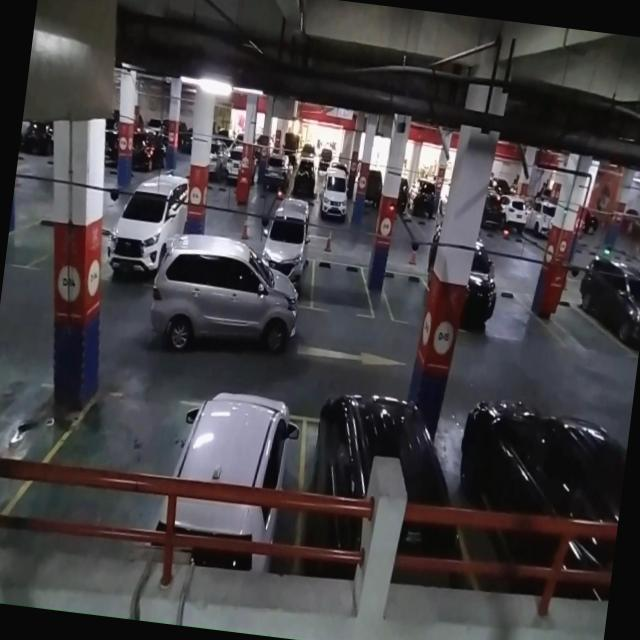car: (286, 414, 474, 597), (169, 398, 312, 576), (99, 187, 188, 292), (248, 218, 320, 310)
free: (37, 382, 194, 566), (308, 256, 376, 321), (379, 268, 434, 326)
